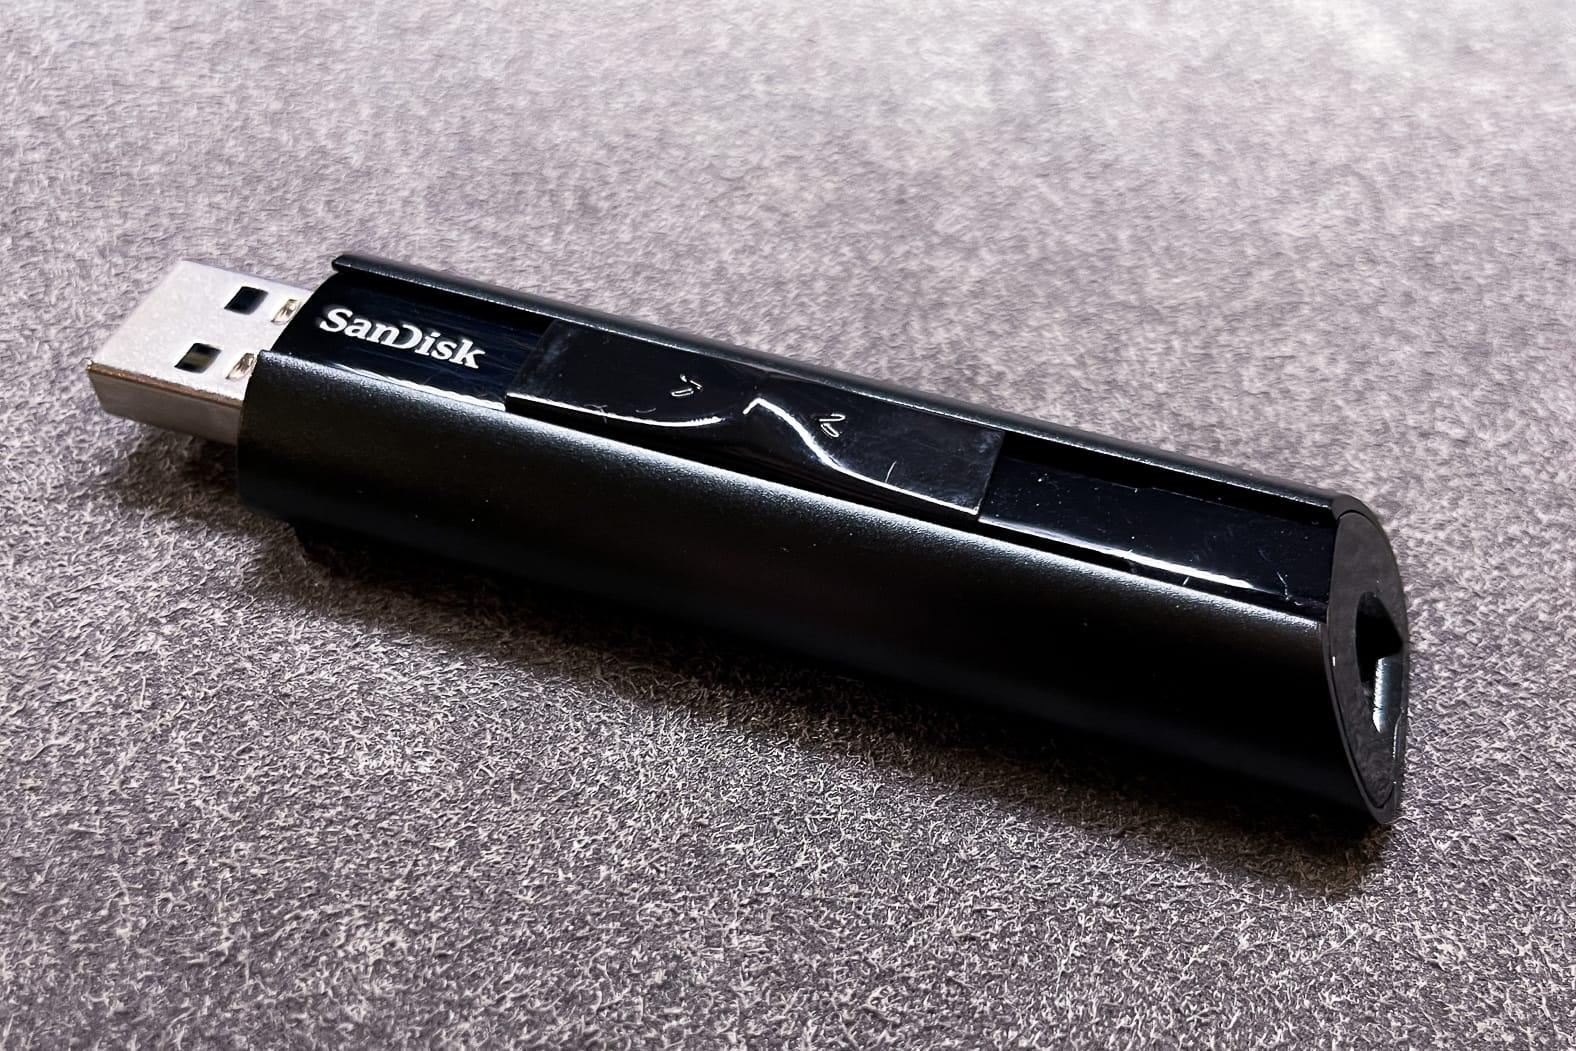USB Flash Drive: (83, 255, 1418, 832)
